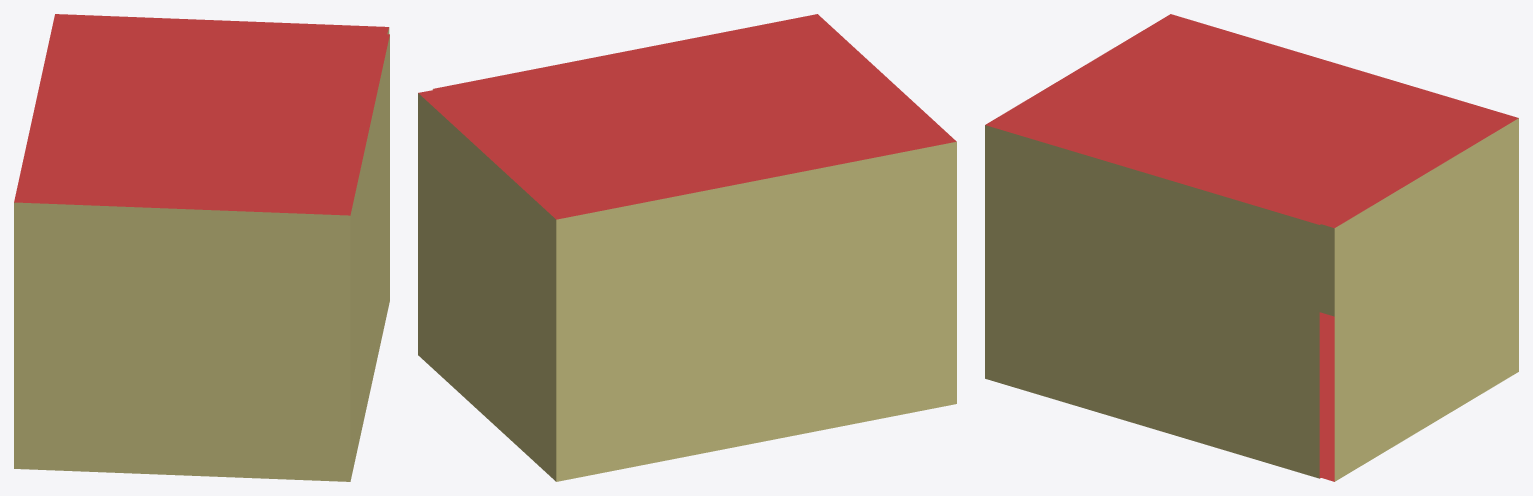
3 views of the same model, side by side, from view 1: azimuth 30°, elevation 25°; view 2: azimuth 150°, elevation 25°; view 3: azimuth 270°, elevation 25° (orthographic). The views are drawn at different scales.
Parts seen in each view (by area): view 1: group_4, group_3; view 2: group_4, group_3; view 3: group_4, group_3, group_5.
Part boxes in pixels (x1=…): group_4: x1=14, y1=27, x2=389, y2=481; group_3: x1=14, y1=14, x2=389, y2=215; group_4: x1=418, y1=89, x2=956, y2=481; group_3: x1=418, y1=14, x2=956, y2=219; group_4: x1=985, y1=118, x2=1518, y2=481; group_3: x1=985, y1=14, x2=1518, y2=228; group_5: x1=1319, y1=312, x2=1334, y2=481.
Bounding box in the file's own units: 9.87 × 10.4 × 5.45.
